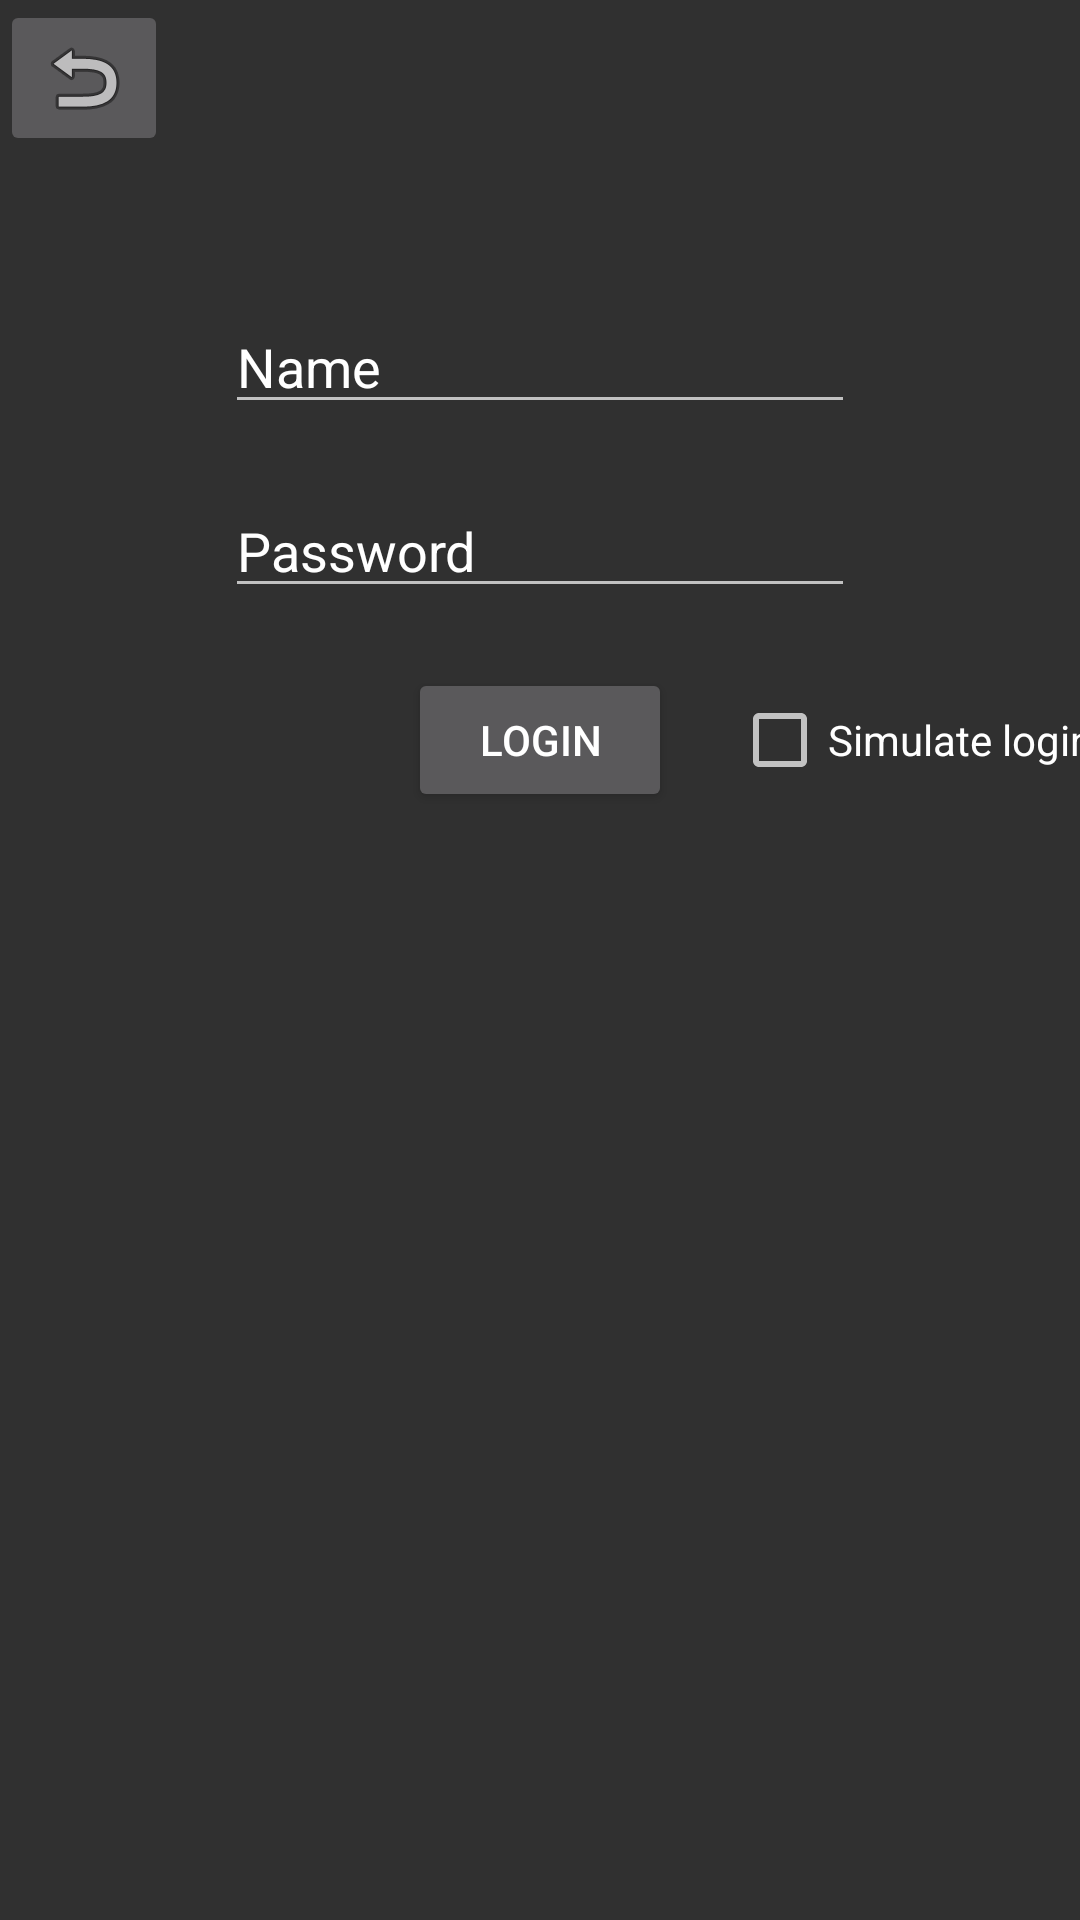

Screen size 1080 × 1920. Icon name, then its box in pixels as (x1, y1, x2, y2):
revert: (12, 18, 156, 138)
